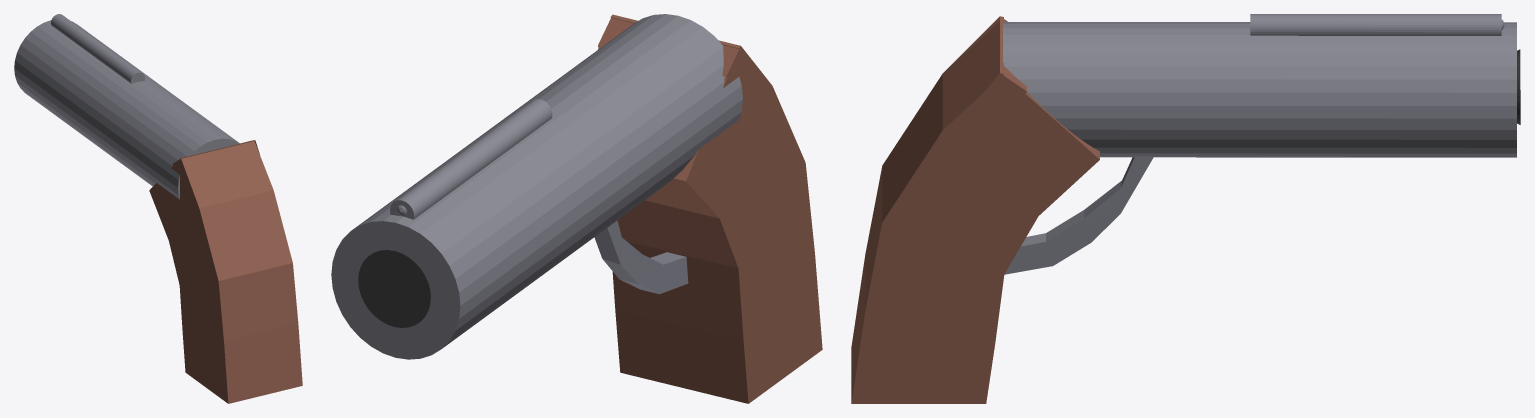
Rendered from Gun.fbx.
3 renders of one model, left to right at view 1: azimuth 30°, elevation 25°; view 2: azimuth 150°, elevation 25°; view 3: azimuth 270°, elevation 25°, orthographic. The views are drawn at different scales.
Visible parts, largest first — view 1: Cube, Cylinder, Cylinder.001; view 2: Cylinder, Cube, Cylinder.001, Cone, Cube.001; view 3: Cylinder, Cube, Cylinder.001, Cube.001.
Boxes of the visible parts, box(x1,y1,x2,y2) form: Cube: box(149, 140, 302, 403); Cylinder: box(14, 20, 239, 199); Cylinder.001: box(50, 14, 144, 83); Cylinder: box(331, 14, 742, 359); Cube: box(598, 14, 822, 403); Cylinder.001: box(390, 99, 552, 219); Cone: box(358, 250, 430, 327); Cube.001: box(594, 220, 688, 294); Cylinder: box(1003, 22, 1516, 157); Cube: box(851, 16, 1099, 403); Cylinder.001: box(1250, 14, 1501, 35); Cube.001: box(1004, 157, 1153, 274).
Size of the model in its own units: 206 by 589 by 993.
